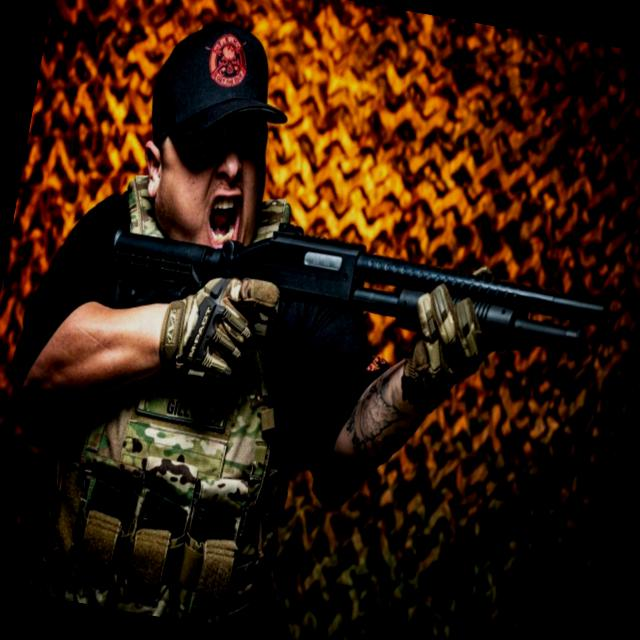long weapon: (98, 219, 615, 402)
